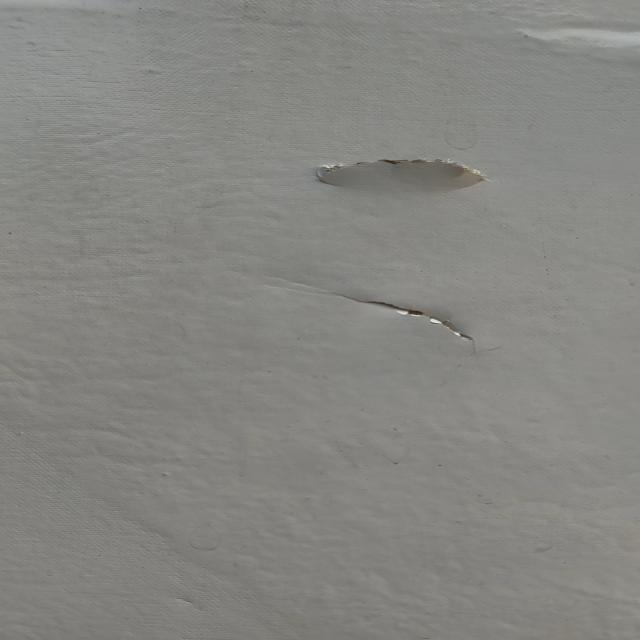Scratches: (290, 281, 510, 360), (297, 145, 536, 209)
